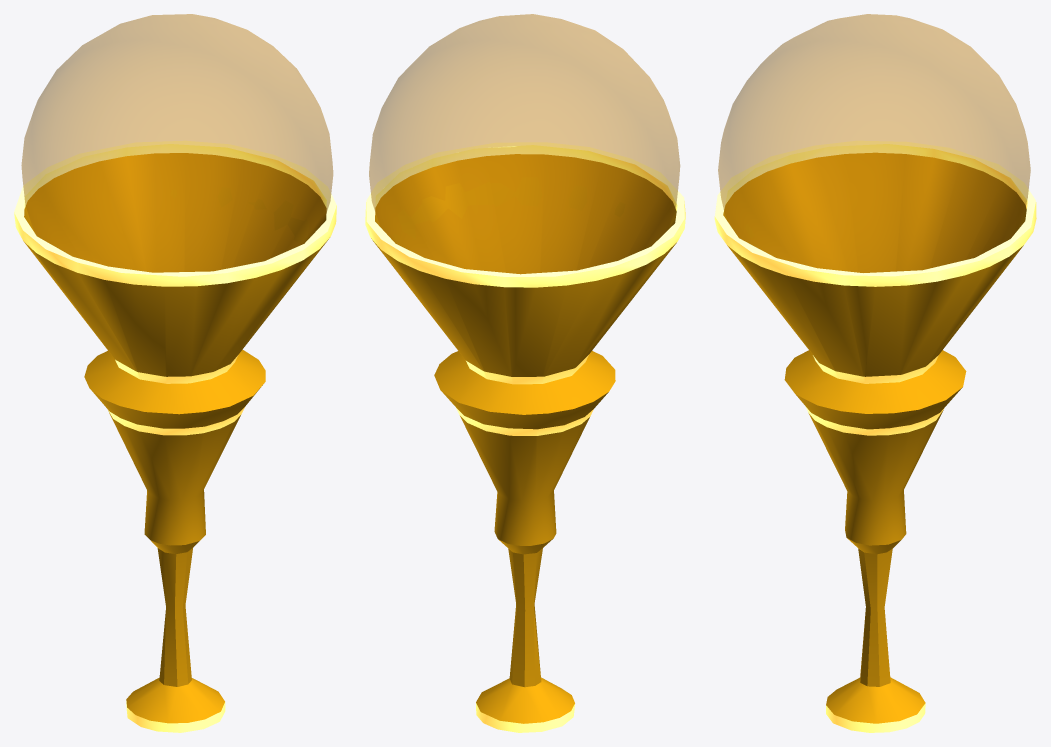
Rendered from Trophy.glb.
3 views of the same model, side by side, from view 1: azimuth 30°, elevation 25°; view 2: azimuth 150°, elevation 25°; view 3: azimuth 270°, elevation 25° (orthographic).
Visible parts, largest first — view 1: Trophy, Trophy.001; view 2: Trophy, Trophy.001; view 3: Trophy, Trophy.001.
Boxes of the visible parts, box(x1,y1,x2,y2) form: Trophy: box(14, 140, 336, 732); Trophy.001: box(21, 14, 332, 272); Trophy: box(365, 142, 685, 732); Trophy.001: box(369, 14, 679, 273); Trophy: box(714, 140, 1036, 732); Trophy.001: box(718, 14, 1030, 272).
Size of what is drawn, in the model's own units: 1.47 by 3.45 by 1.47.
